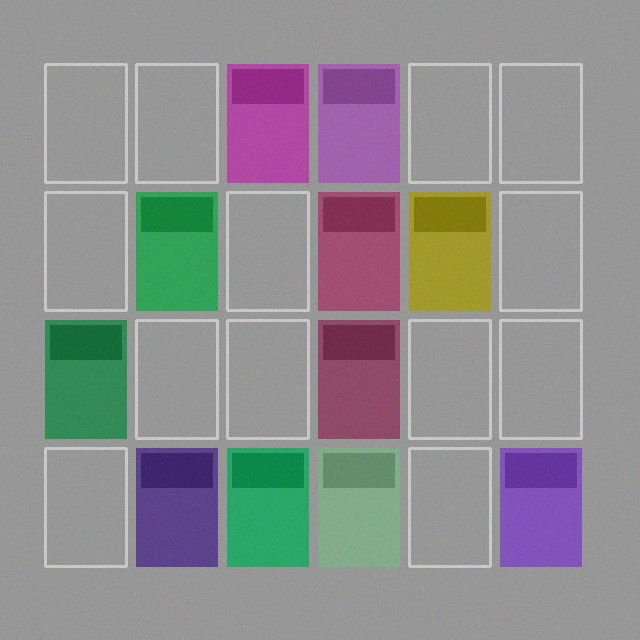space-empty: (45, 64, 126, 182), (136, 64, 217, 182), (409, 64, 490, 182), (500, 64, 581, 182), (45, 192, 126, 310), (227, 192, 308, 310), (500, 192, 581, 310), (136, 320, 217, 438), (227, 320, 308, 438), (409, 320, 490, 438), (500, 320, 581, 438), (45, 448, 126, 566), (409, 448, 490, 566)
space-occupied: (227, 64, 308, 182), (318, 64, 399, 182), (136, 192, 217, 310), (318, 192, 399, 310), (409, 192, 490, 310), (45, 320, 126, 438), (318, 320, 399, 438), (136, 448, 217, 566), (227, 448, 308, 566), (318, 448, 399, 566), (500, 448, 581, 566)
